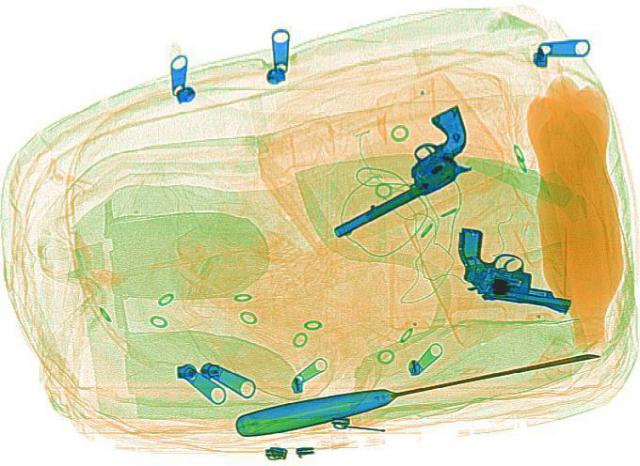Gun: (282, 104, 508, 239), (414, 220, 596, 328)
Knife: (229, 336, 606, 439)
